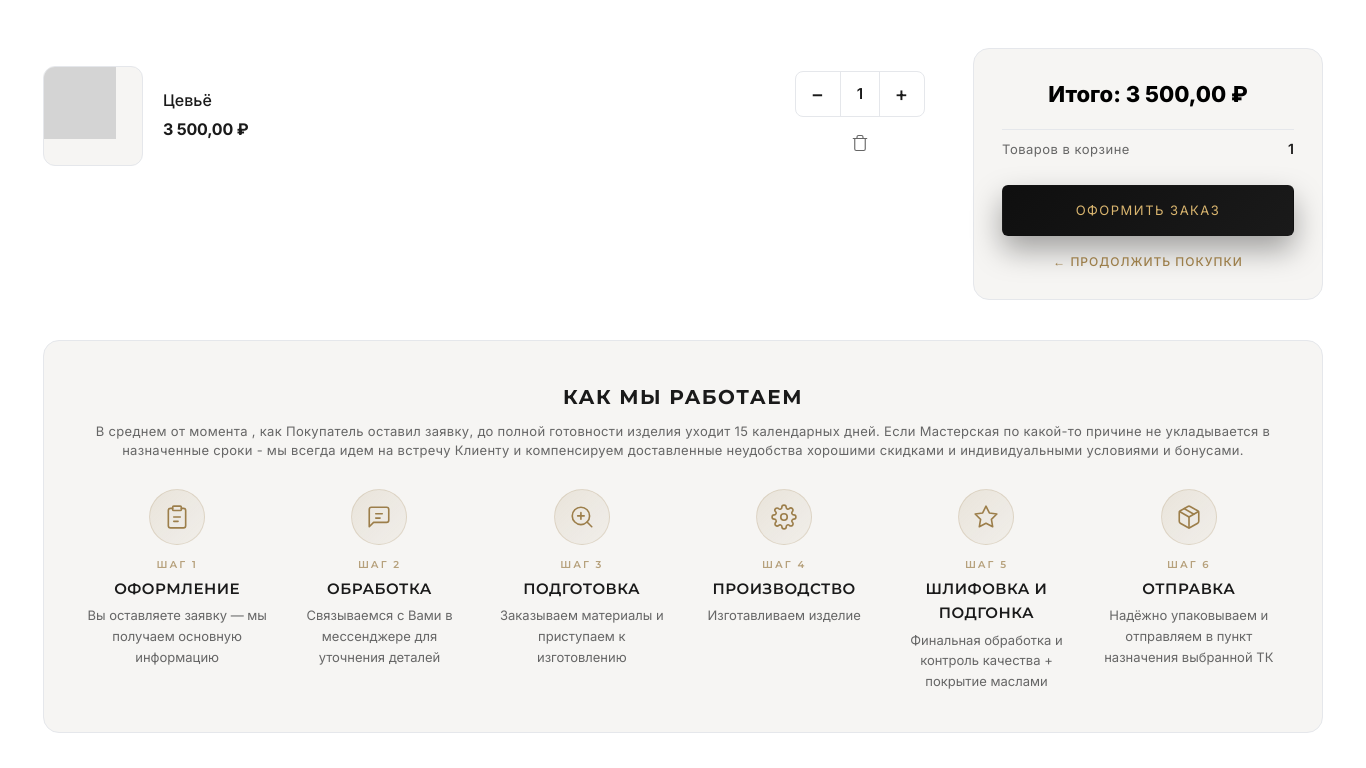
Test case: CartPageContainer — integration › удаляет товар при уменьшении количества до 0
The image size is (1366, 768).
expect the text "Цевьё" is shown: met, box [163, 90, 212, 110]
Click the button named "Уменьшить количество": click(818, 94) [796, 72, 840, 116]
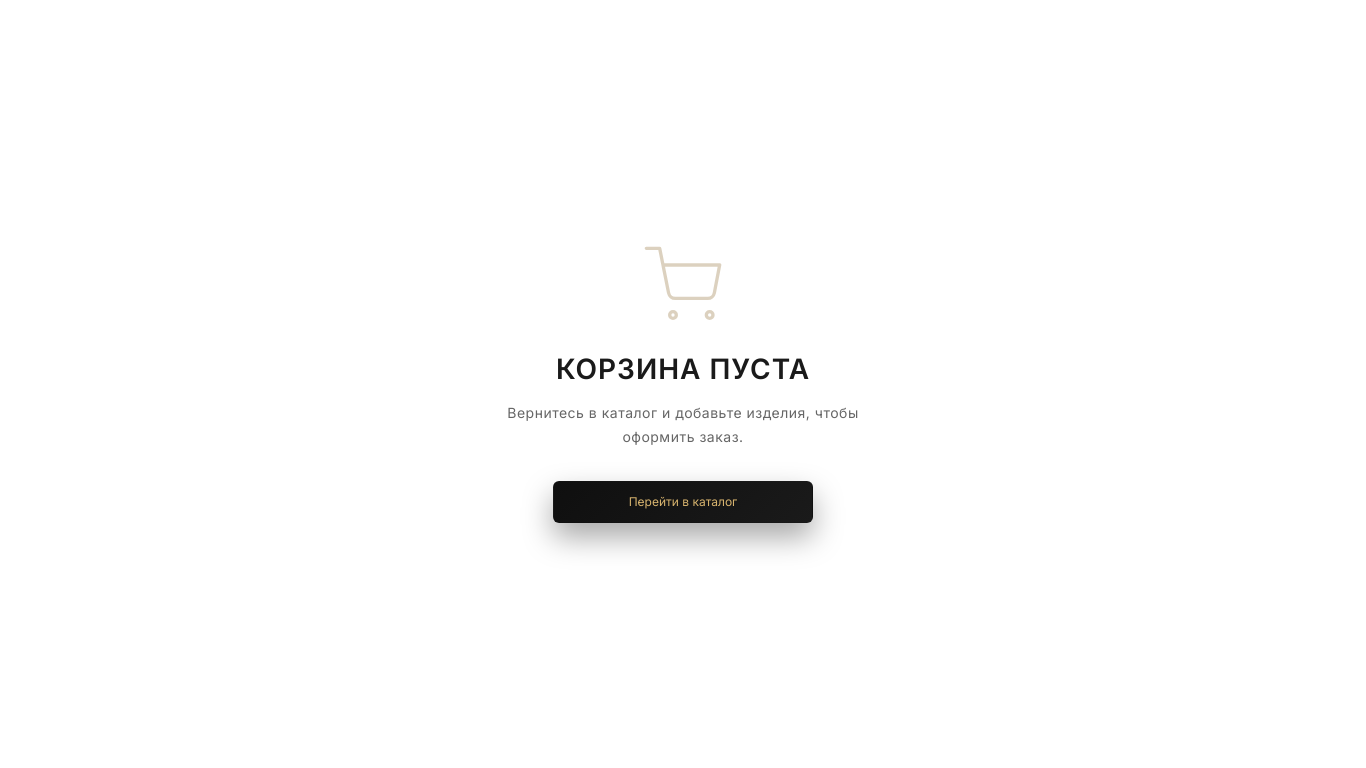
expect the text "Цевьё" is gone: met
expect the text "Корзина пуста" is shown: met, box [556, 352, 810, 386]
